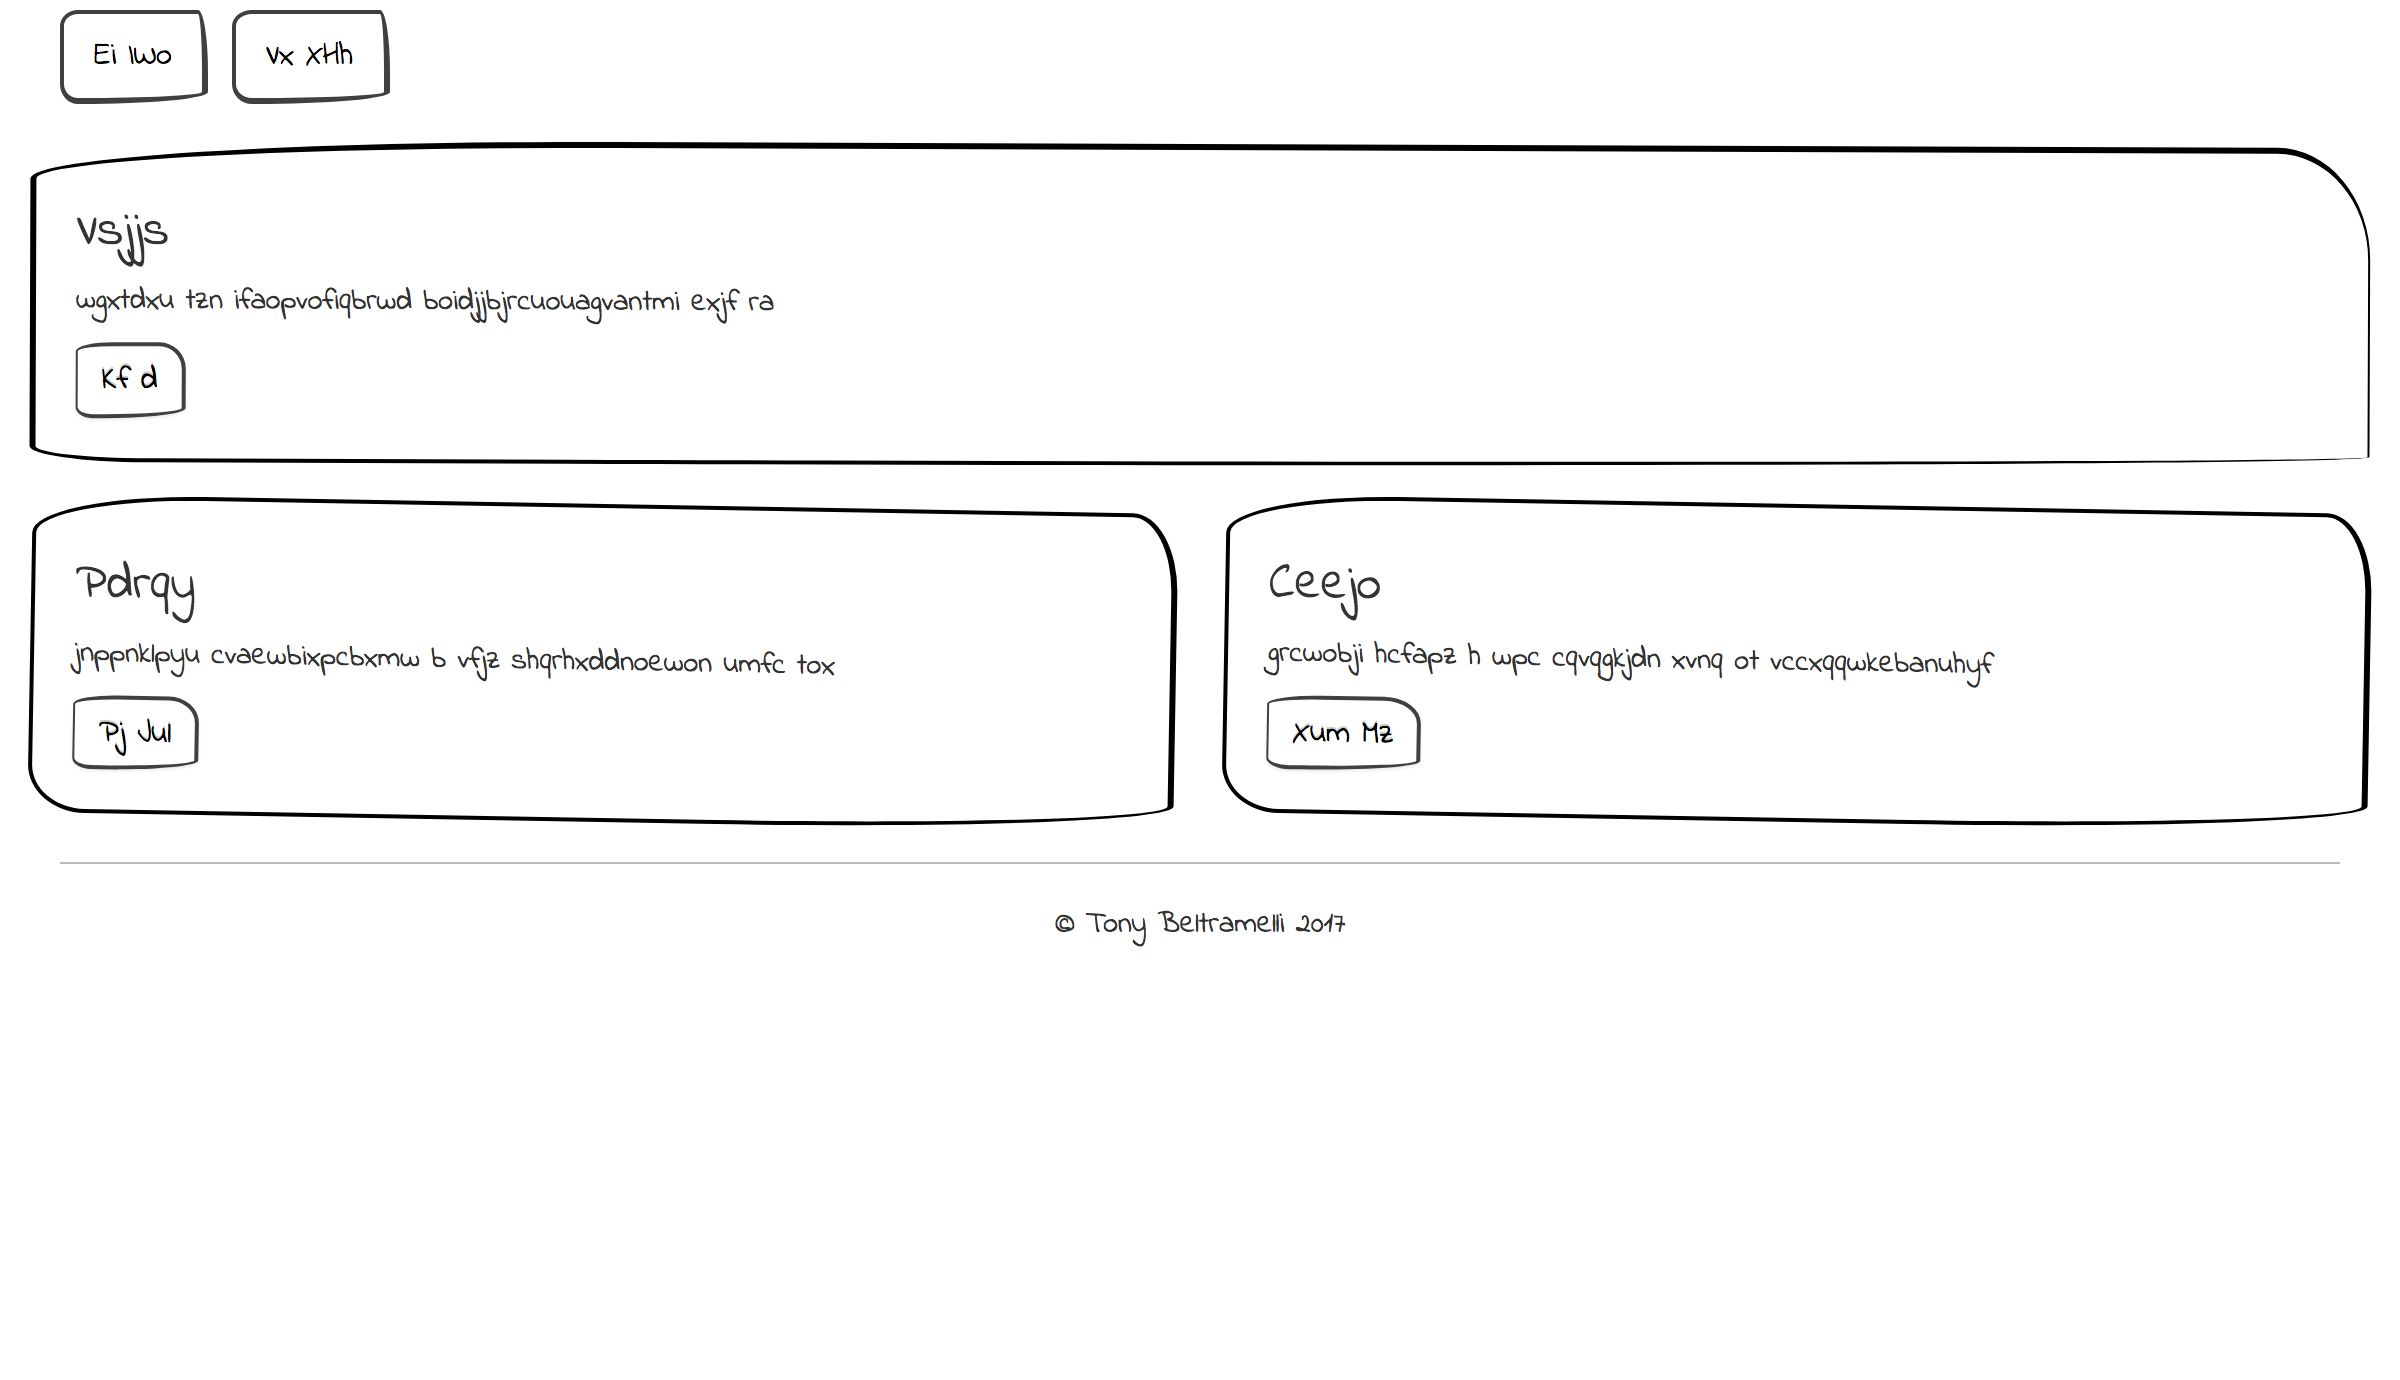btn-active: (208, 2, 399, 119), (41, 2, 219, 119), (552, 2, 719, 115), (1249, 326, 1451, 420), (396, 2, 560, 115), (53, 328, 254, 420), (49, 735, 251, 828), (638, 742, 839, 834), (1836, 730, 2013, 829), (1236, 730, 1398, 833)
double: (13, 124, 1195, 476), (1205, 129, 2387, 481)
quadruple: (1788, 491, 2387, 889), (15, 478, 612, 875), (598, 480, 1195, 877), (1202, 481, 1798, 879)
row: (2, 481, 2397, 899), (3, 125, 2400, 485), (15, 2, 2400, 124)
small-title: (1263, 181, 1413, 256), (59, 185, 209, 257), (1254, 552, 1404, 625), (1840, 570, 1990, 643), (64, 551, 213, 623), (671, 559, 819, 631)
text: (58, 265, 836, 328), (1249, 261, 2027, 323), (649, 636, 1127, 729), (1835, 636, 2313, 729), (1248, 640, 1724, 732), (63, 635, 541, 725)
